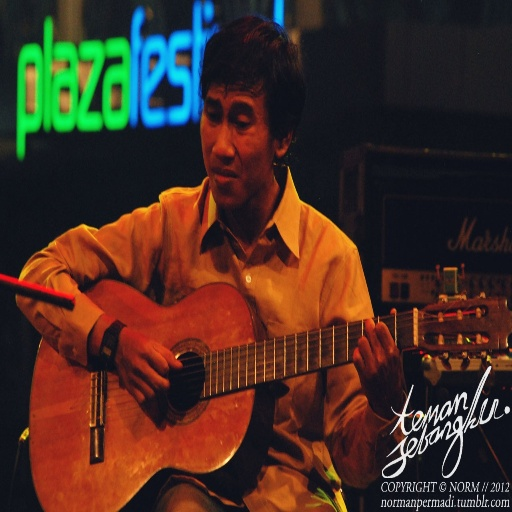hand: (96, 307, 185, 420), (351, 307, 403, 413)
